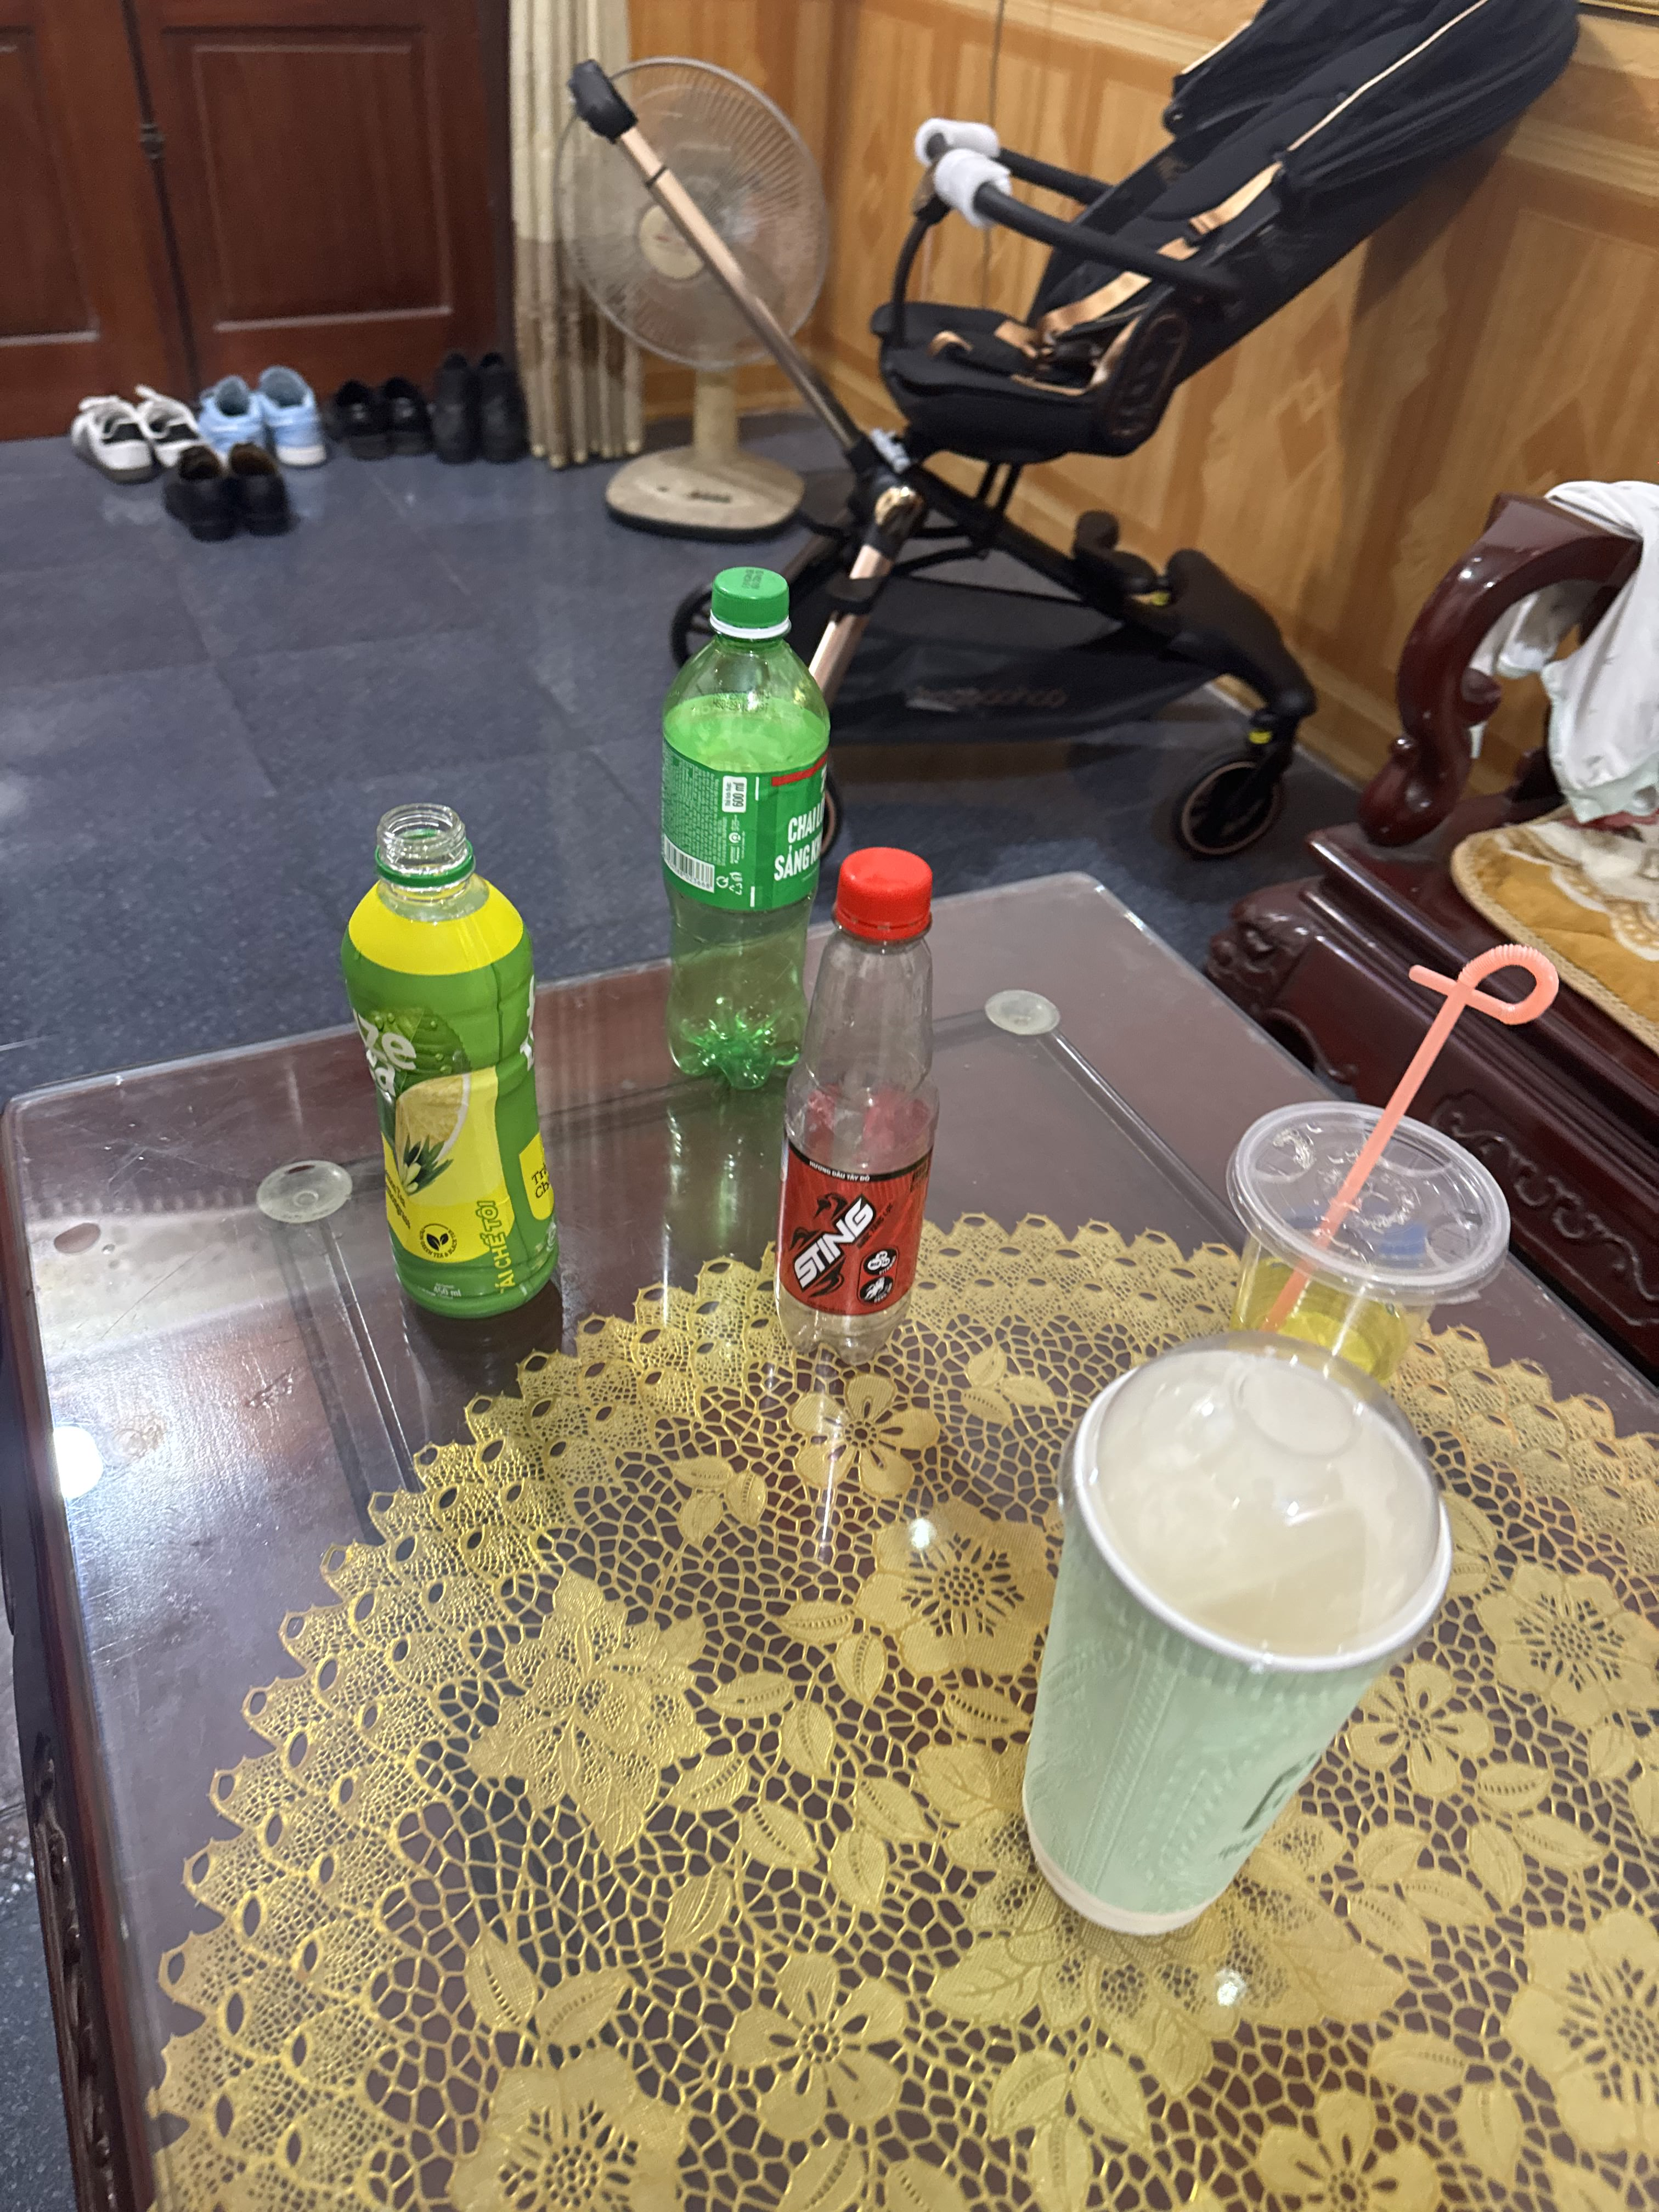2: (965, 1310, 1497, 1998), (1168, 1059, 1614, 1428)
bottle: (291, 777, 603, 1336), (735, 834, 1002, 1390), (626, 535, 854, 1103)
